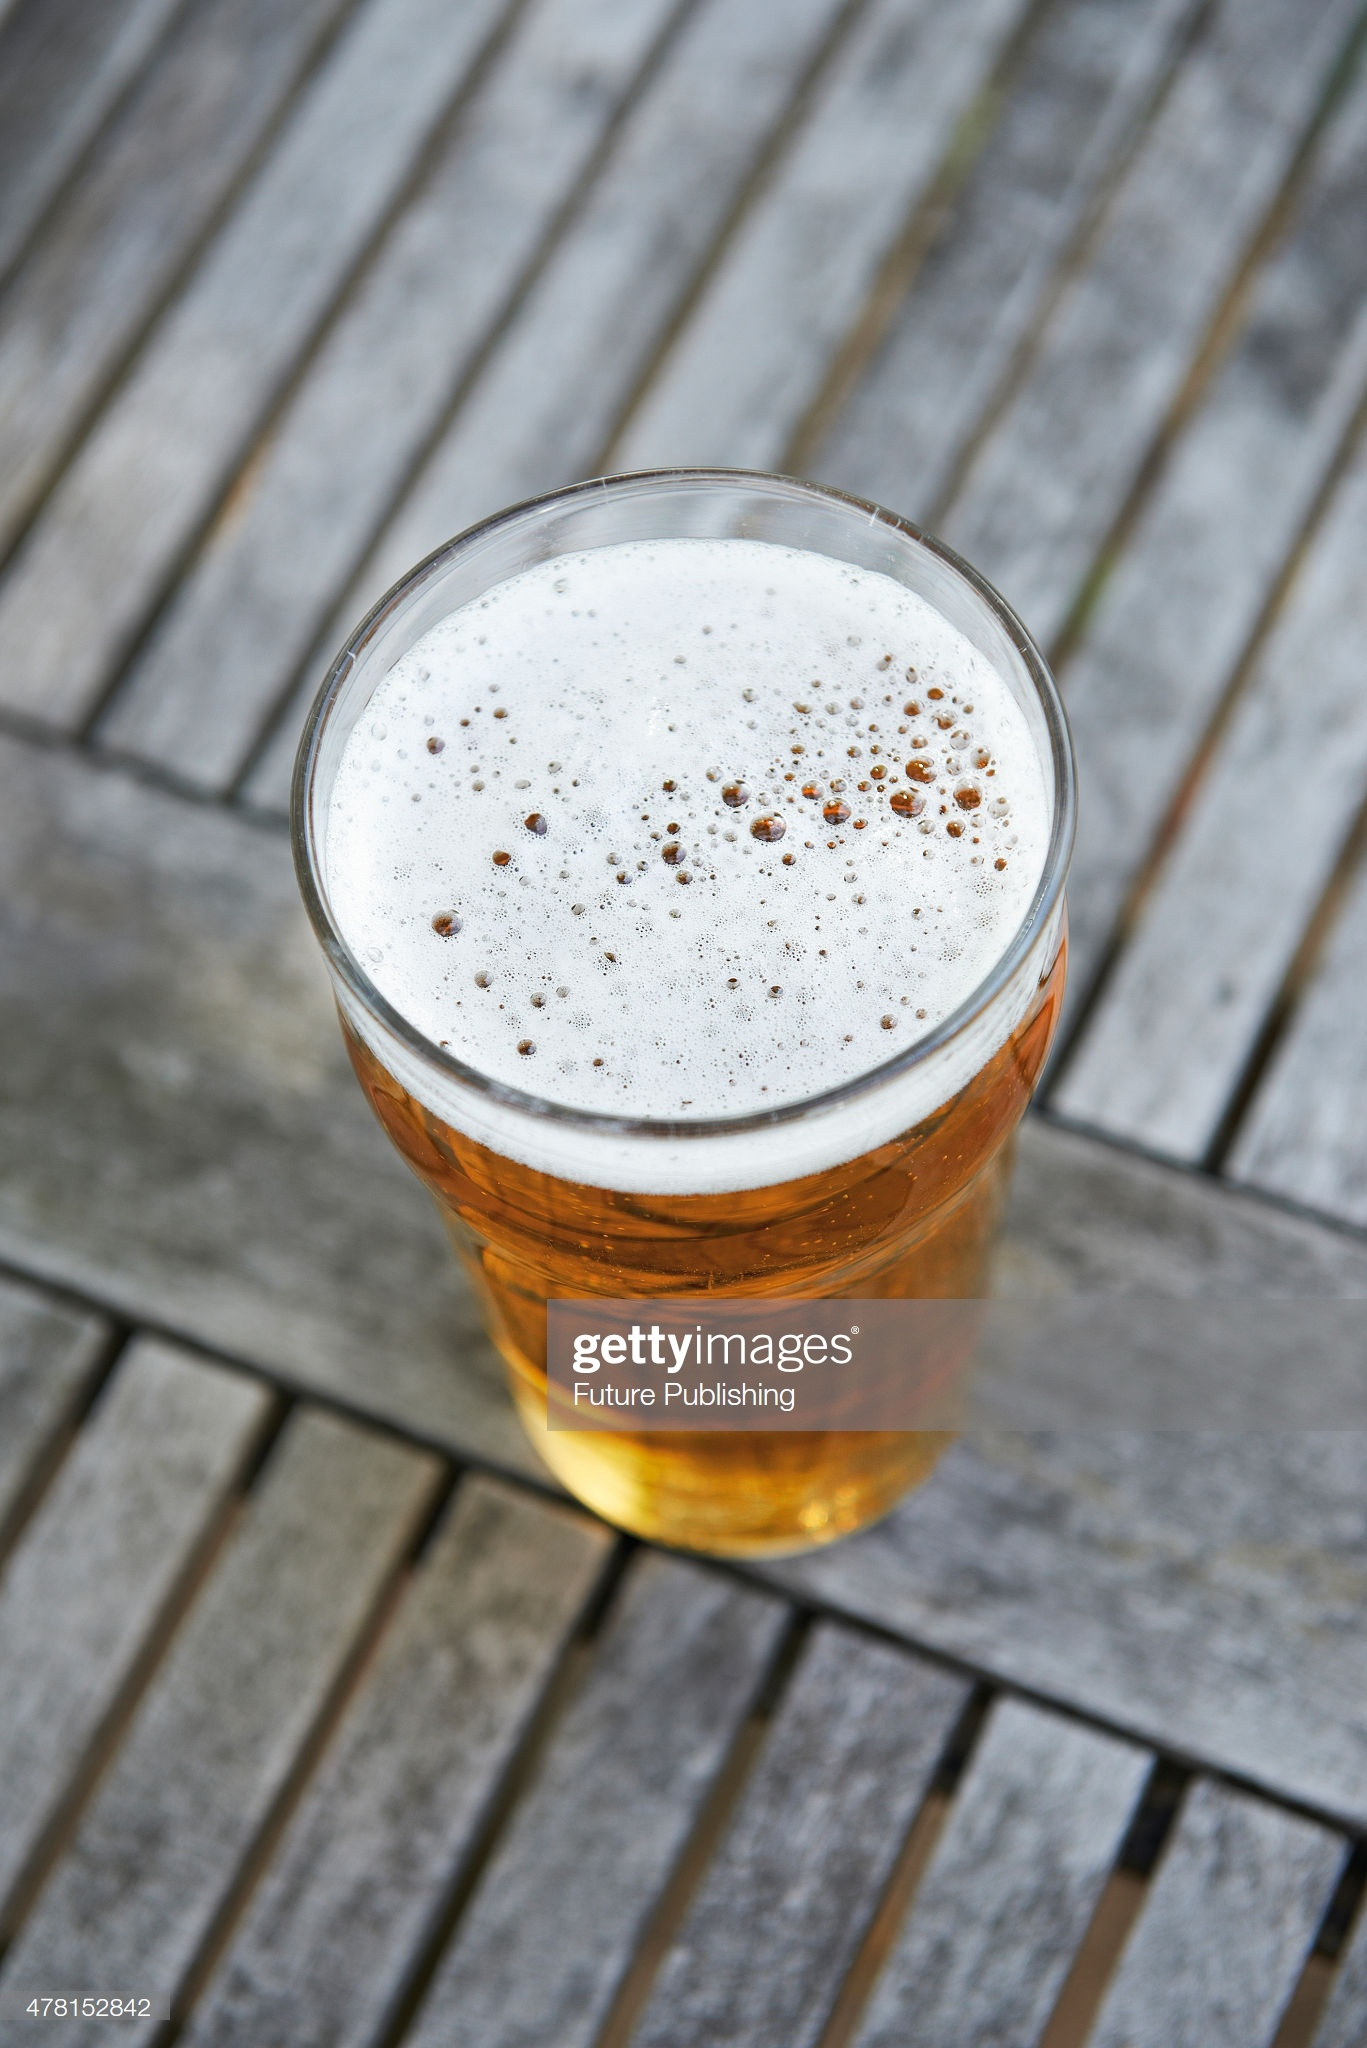glassBeer: (269, 470, 1076, 1568)
